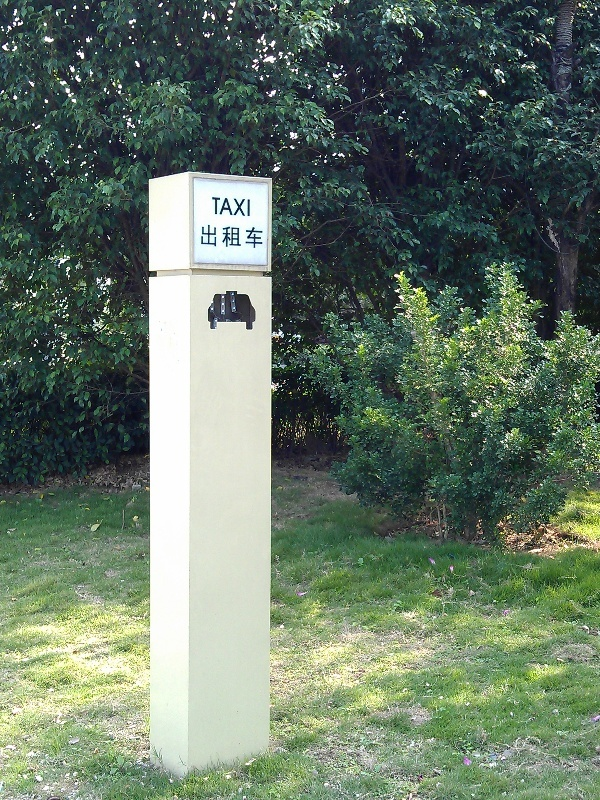text: (209, 224, 224, 250), (225, 224, 240, 250), (241, 224, 256, 250), (225, 196, 240, 218), (212, 196, 224, 218), (241, 196, 252, 218), (201, 224, 208, 250), (257, 224, 264, 250)
